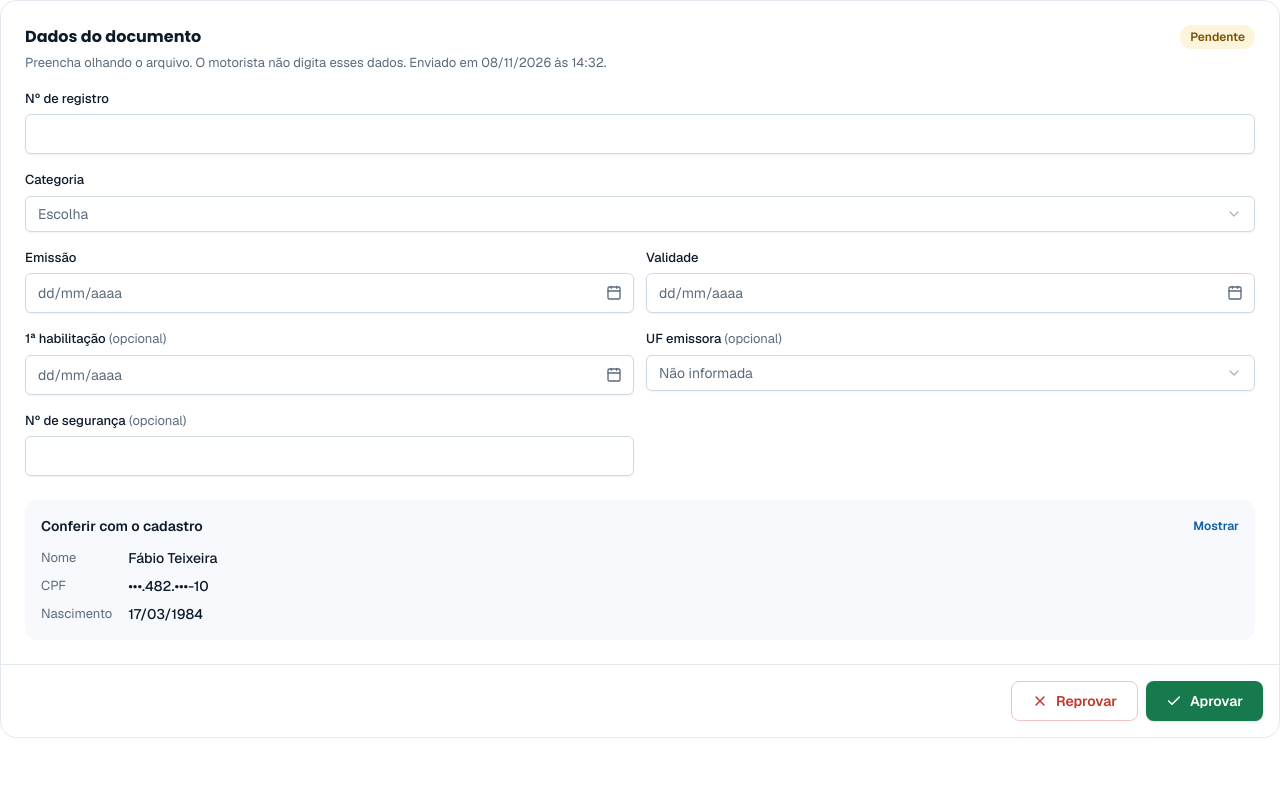
ReviewPanel on a pending CNH › marks what is missing before asking to approve
Click the button "Aprovar" at x=1204, y=701, box [1146,681,1263,721]
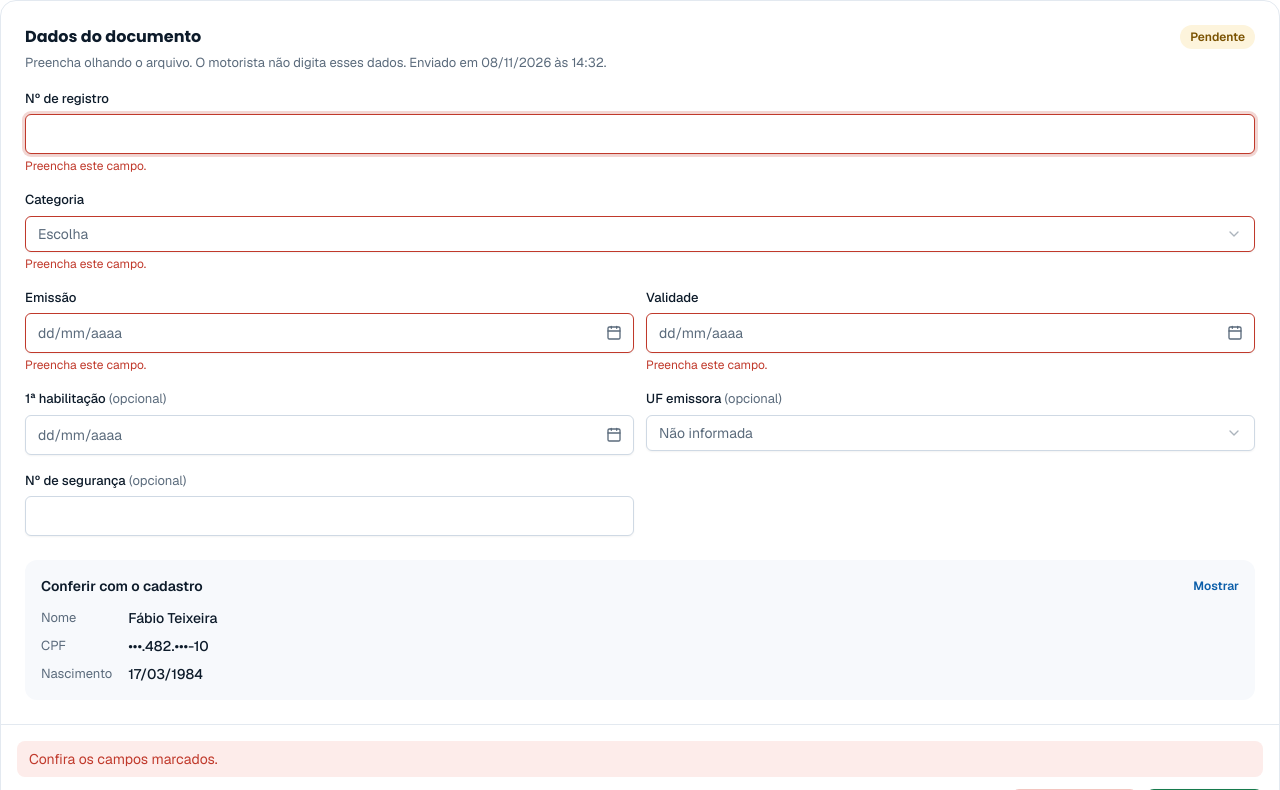
Expected: the message reads "Confira os campos marcados.", [29,750,218,768]
